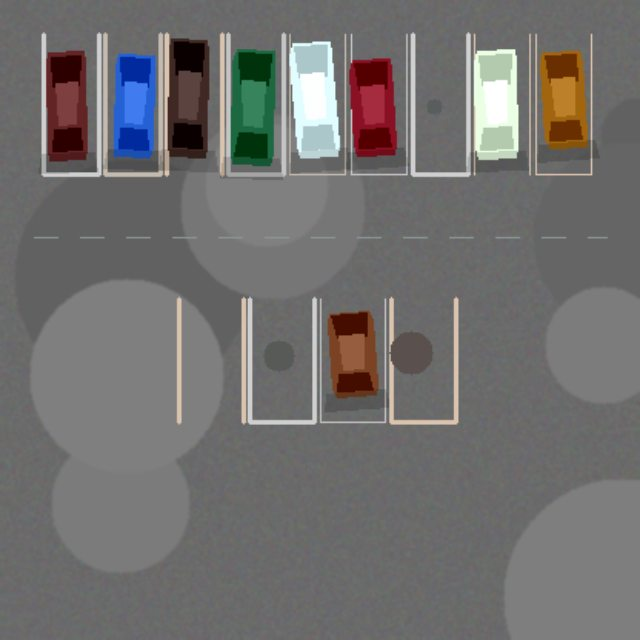space-empty: (178, 298, 243, 422), (249, 298, 314, 422), (391, 298, 455, 422), (412, 34, 468, 174)
space-occupied: (320, 298, 385, 422), (166, 34, 222, 174), (289, 34, 345, 174), (535, 34, 591, 174), (43, 34, 98, 174), (105, 34, 160, 174), (228, 34, 283, 174), (351, 34, 406, 174), (474, 34, 529, 174)
